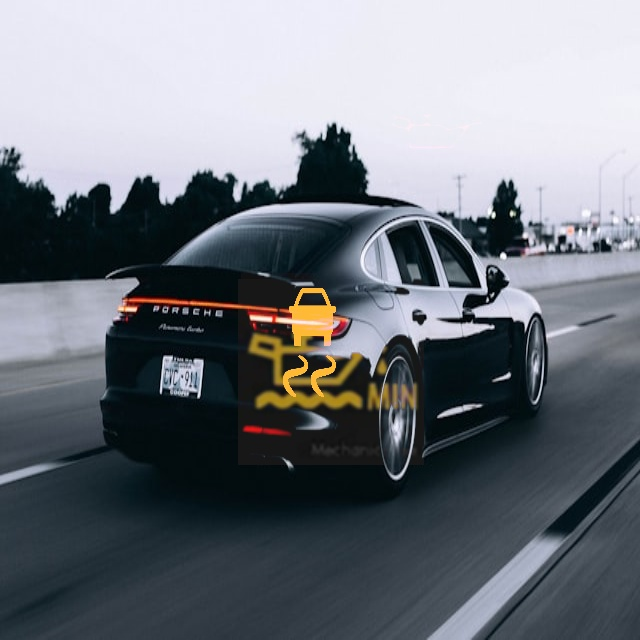symbol: (238, 279, 424, 465), (241, 273, 381, 413), (372, 67, 502, 197)
